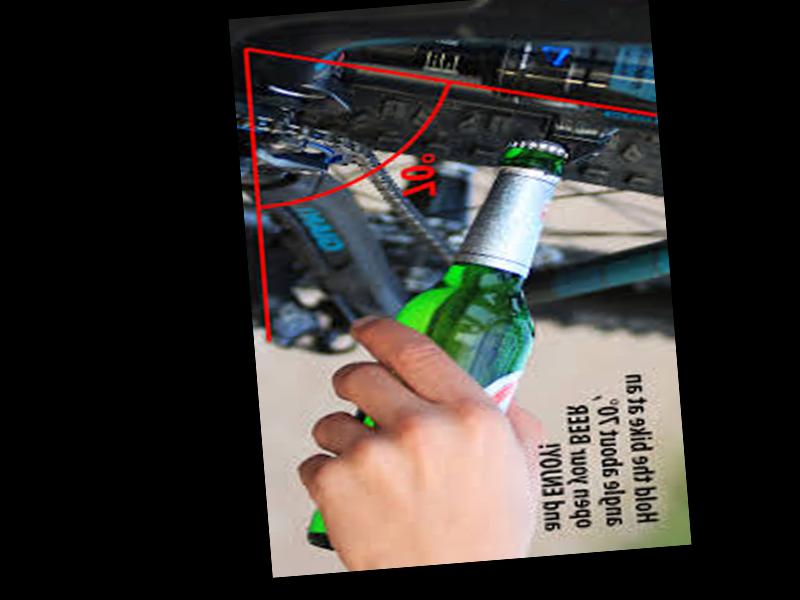Beer: (276, 130, 597, 553)
